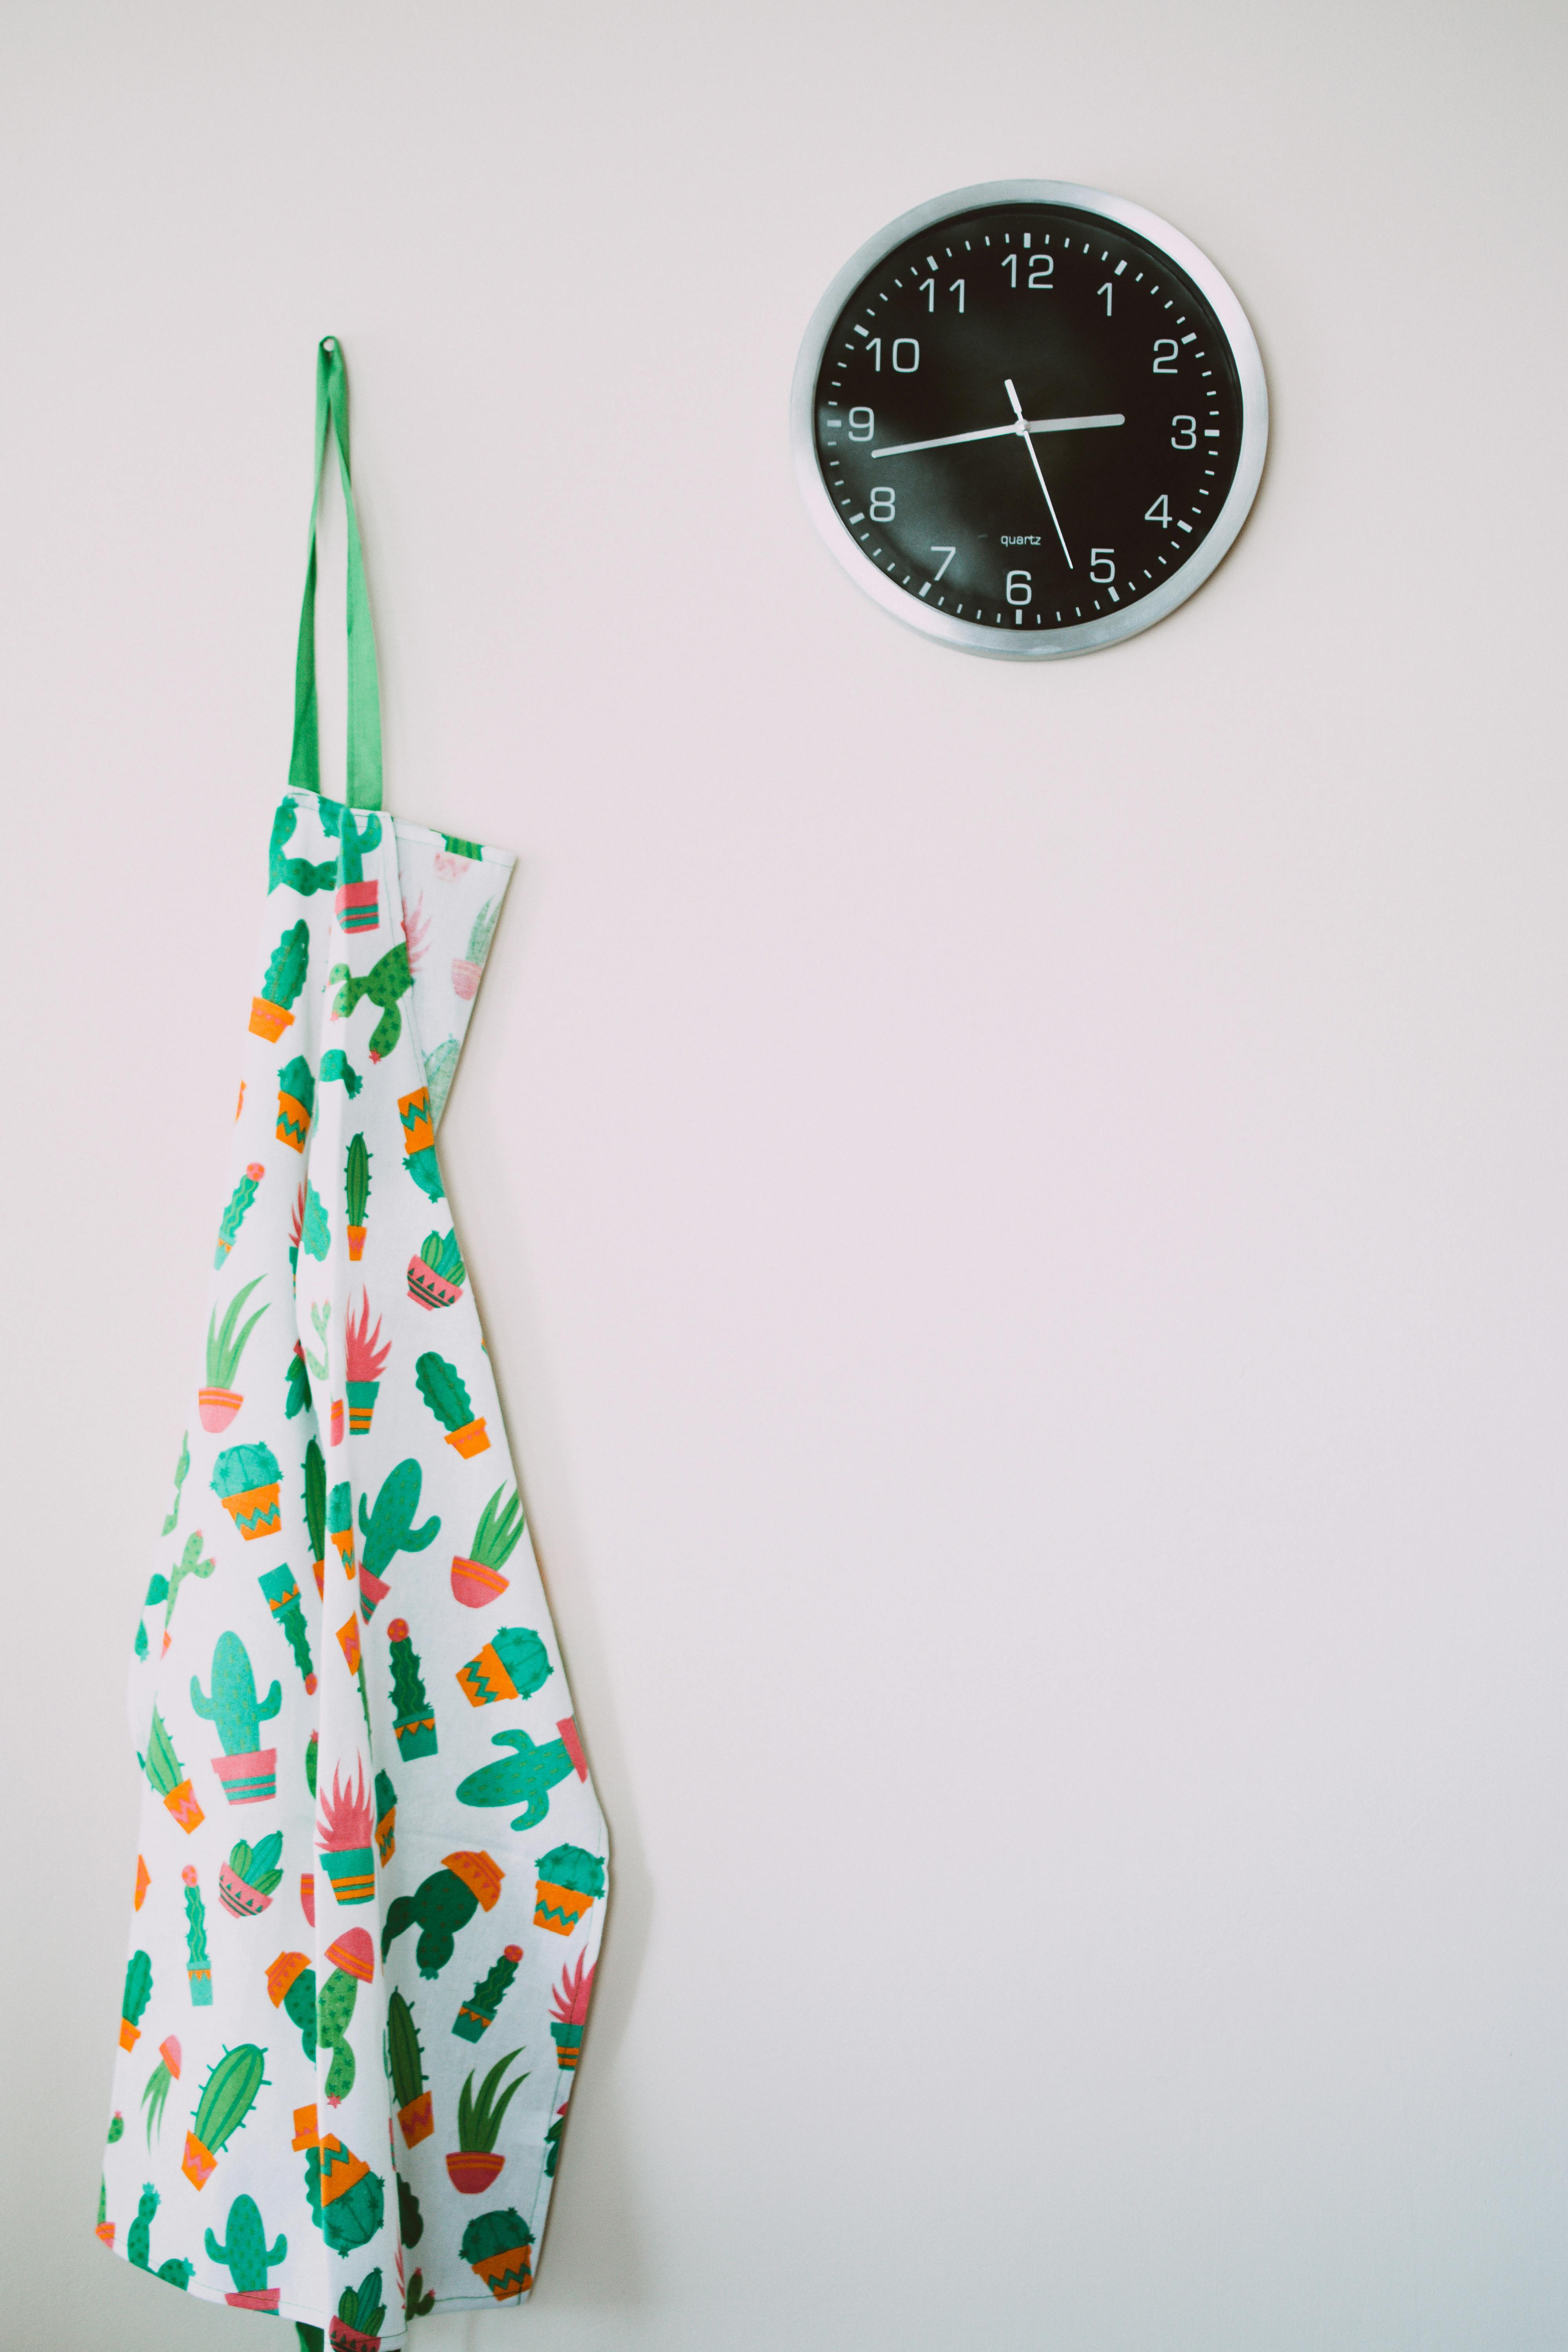clock: (693, 89, 1390, 742)
